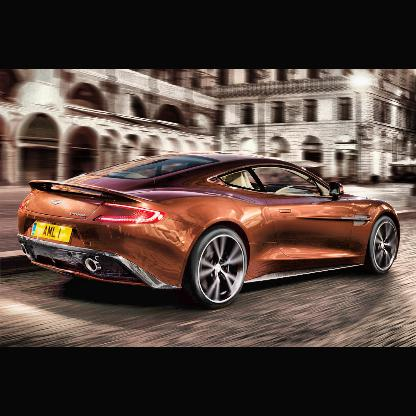Aston Martin Virage Coupe 2012: (17, 149, 404, 311)
